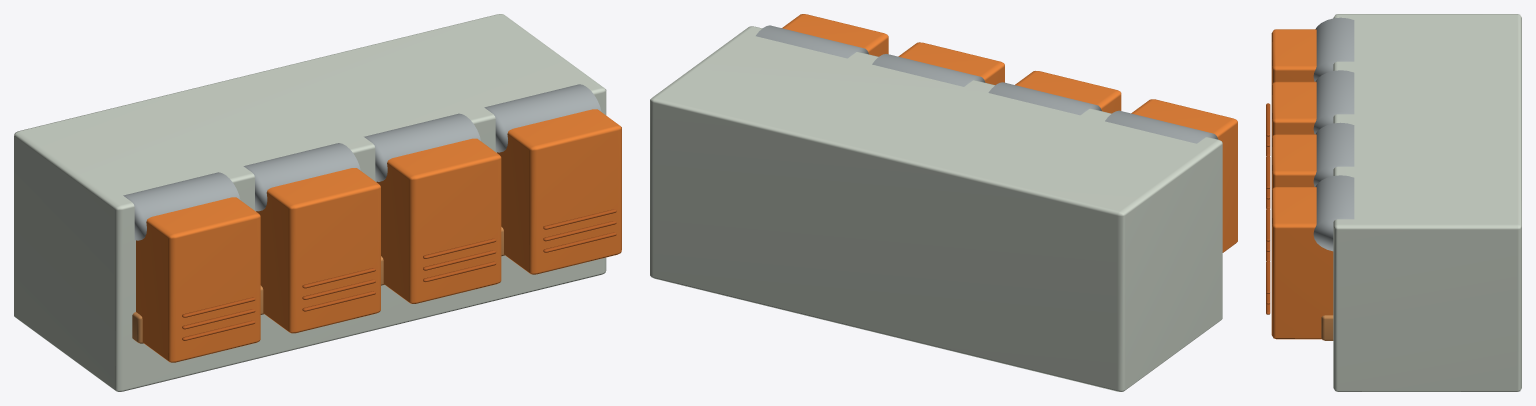
Rendered from terminal_lever-connector.glb.
3 views of the same model, side by side, from view 1: azimuth 30°, elevation 25°; view 2: azimuth 150°, elevation 25°; view 3: azimuth 270°, elevation 25° (orthographic). The views are drawn at different scales.
Parts seen in each view (by area): view 1: node-4, node-3 · Original material.002, node-3 · Original material.003, node-3 · Original material.004, node-5; view 2: node-4, node-3 · Original material.002, node-3 · Original material.003; view 3: node-4, node-3 · Original material.002, node-3 · Original material.003, node-3 · Original material.004, node-5.
Part boxes in pixels (x1,y1,x2,y2): node-4: (14, 14, 606, 391); node-3 · Original material.002: (136, 109, 621, 362); node-3 · Original material.003: (123, 84, 601, 240); node-3 · Original material.004: (182, 209, 616, 340); node-5: (132, 227, 504, 343); node-4: (650, 26, 1222, 391); node-3 · Original material.002: (782, 14, 1237, 252); node-3 · Original material.003: (756, 25, 1218, 143); node-4: (1333, 14, 1521, 391); node-3 · Original material.002: (1271, 29, 1333, 339); node-3 · Original material.003: (1313, 17, 1354, 251); node-3 · Original material.004: (1266, 103, 1270, 314); node-5: (1321, 315, 1333, 340).
Size of the model in its own units: 0.98 by 0.3678 by 0.4942.
